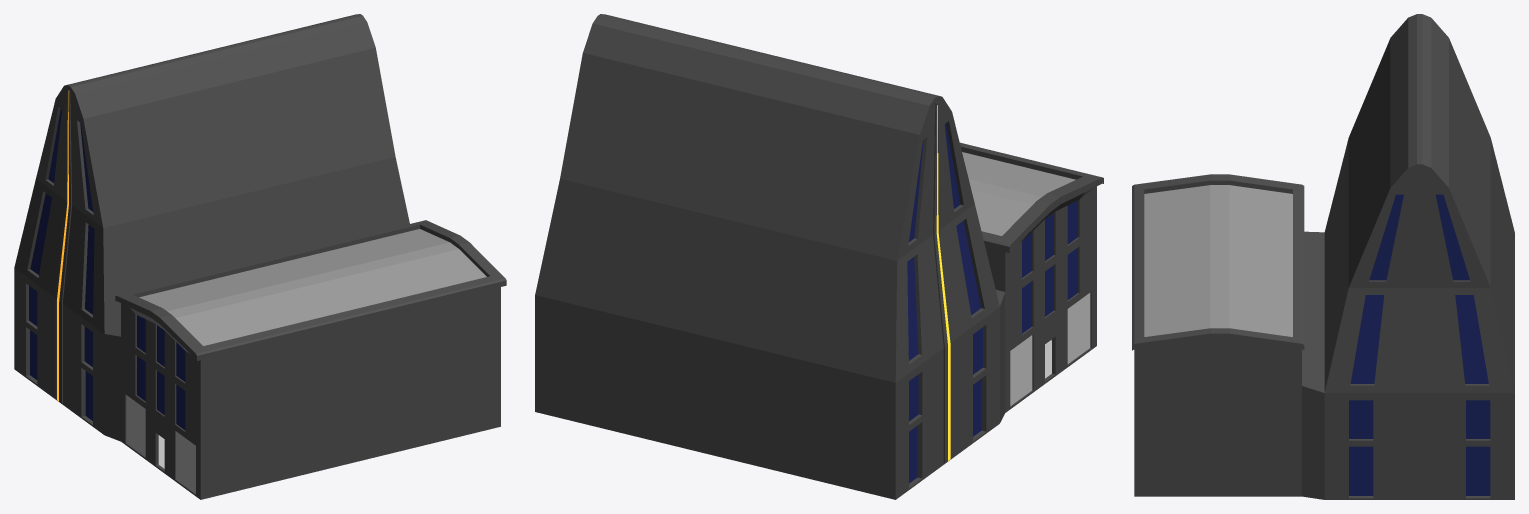
The model's file is TestBarrack.fbx.
3 renders of one model, left to right at view 1: azimuth 30°, elevation 25°; view 2: azimuth 150°, elevation 25°; view 3: azimuth 270°, elevation 25°, orthographic. The views are drawn at different scales.
Parts seen in each view (by area): view 1: Cube; view 2: Cube; view 3: Cube.
Boxes of the visible parts, x1,y1,x2,y2 form: Cube: (14, 14, 506, 499); Cube: (535, 14, 1103, 499); Cube: (1132, 14, 1514, 499).
Bounding box in the file's own units: 2009 × 1917 × 2012.
